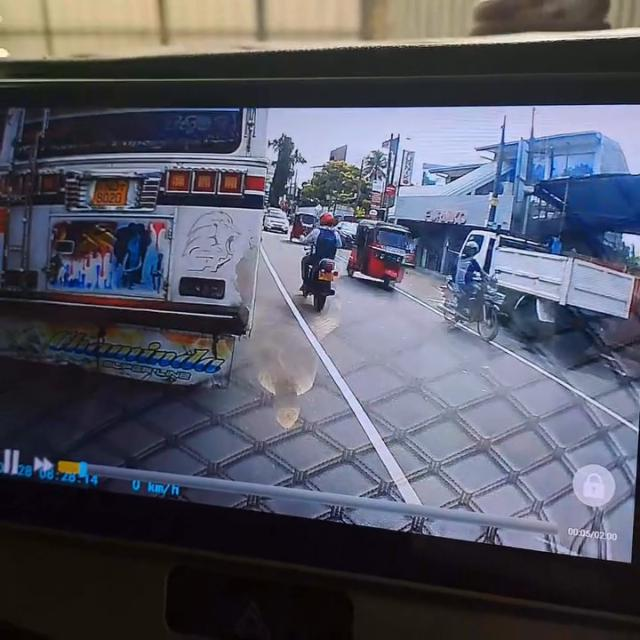illegal overtaking: (305, 210, 347, 320)
number plate: (314, 271, 338, 283)
